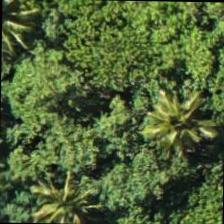Kelapa_Sawit: (132, 61, 223, 154), (9, 158, 101, 223)
